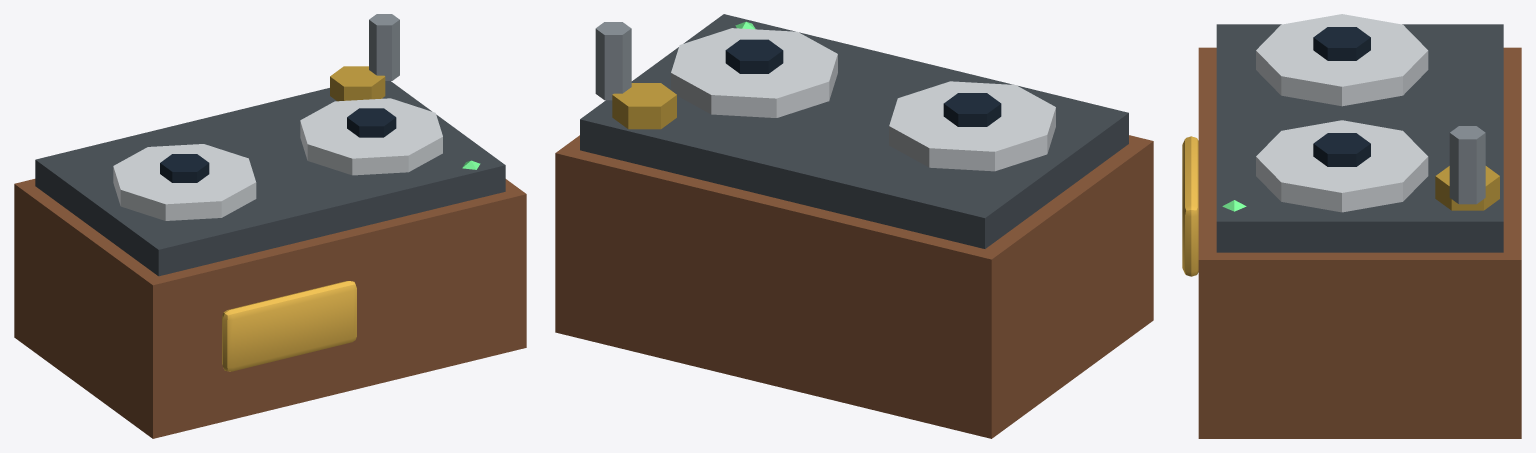
The model's file is Prop_RadioLog.fbx.
3 renders of one model, left to right at view 1: azimuth 30°, elevation 25°; view 2: azimuth 150°, elevation 25°; view 3: azimuth 270°, elevation 25°, orthographic. The views are drawn at different scales.
Visible parts, largest first — view 1: Case, Deck; view 2: Case, Deck; view 3: Deck, Case.
Part boxes in pixels (x1,y1,x2,y2): Case: [14, 179, 526, 438]; Deck: [35, 14, 505, 371]; Case: [555, 135, 1153, 438]; Deck: [580, 14, 1128, 248]; Deck: [1182, 14, 1503, 276]; Case: [1198, 47, 1521, 438].
Bounding box in the file's own units: 1.4 × 0.895 × 0.945.
